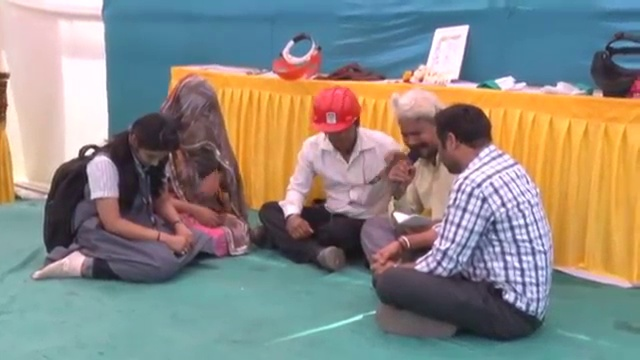helmet: (307, 83, 367, 136)
helmet_off: (436, 100, 495, 175), (395, 86, 446, 166), (121, 110, 180, 176), (167, 76, 221, 145)
helmet_on: (303, 81, 372, 155)
person: (365, 97, 555, 334), (36, 112, 200, 283), (253, 87, 405, 269), (150, 68, 248, 252), (364, 87, 458, 276)
